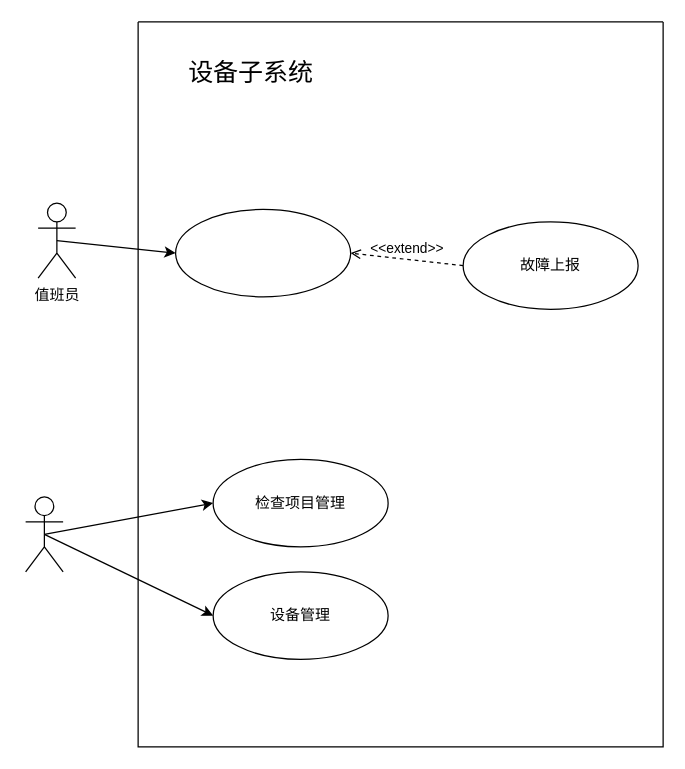
This 685x769 diagram has some shape labels left out. The box of each missing label's shape, as (x1, y1, x2, y2) in pixels:
日常巡检: (174, 208, 351, 297)
管理员: (24, 496, 63, 572)
